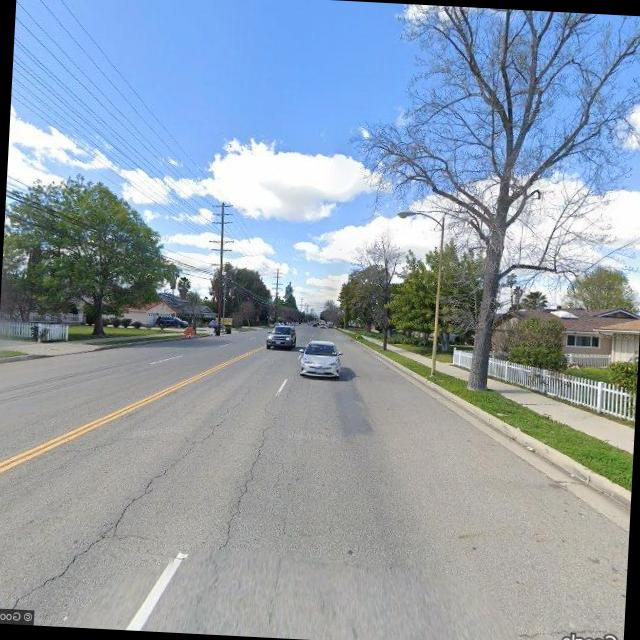pothole: (10, 396, 234, 622), (220, 406, 281, 553)
